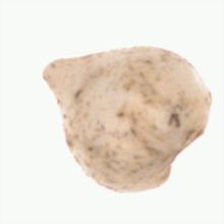L4: (41, 46, 211, 193)
